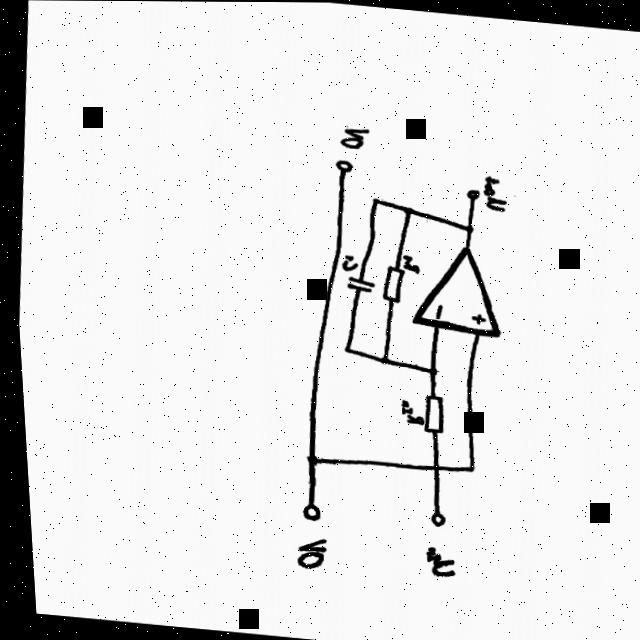capacitor: (341, 273, 371, 293)
crossover: (425, 462, 435, 471)
junction: (298, 454, 313, 465), (398, 205, 411, 215), (422, 365, 433, 376), (459, 223, 471, 233), (373, 354, 384, 364), (367, 196, 377, 204), (460, 464, 468, 472), (338, 346, 346, 353)
resistor: (416, 393, 441, 434), (376, 264, 402, 303)
terminal: (294, 502, 314, 521), (331, 158, 350, 173), (422, 511, 439, 527), (463, 188, 476, 199)
text: (288, 536, 320, 570), (417, 545, 447, 577), (479, 175, 504, 211), (336, 125, 367, 150), (393, 398, 419, 425), (397, 252, 416, 274), (336, 253, 354, 272)
